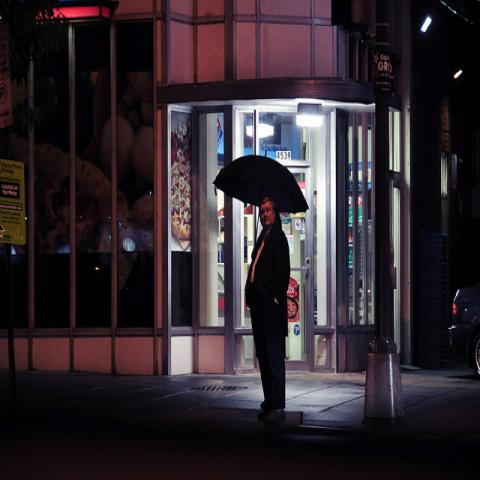car: (448, 285, 479, 372)
